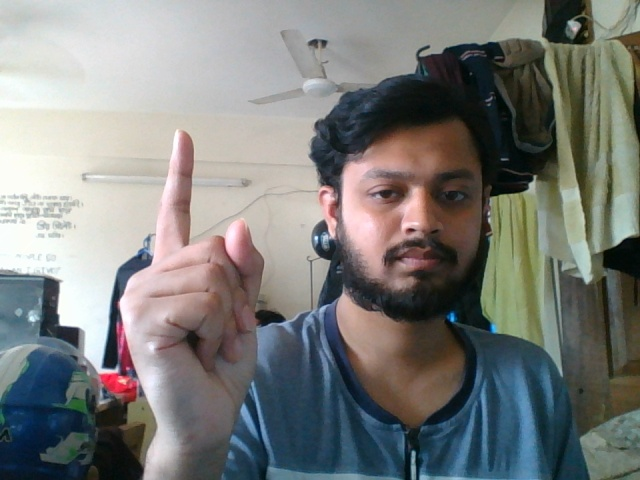u: (121, 128, 280, 437)
